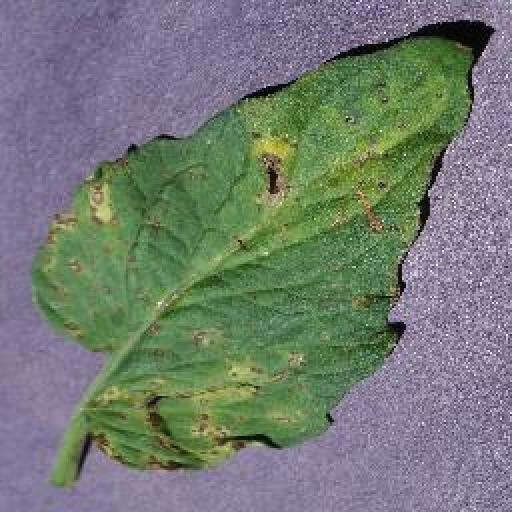disease_tomato: (34, 34, 474, 472)
